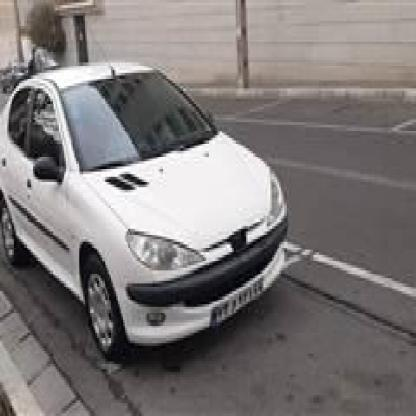Car: (0, 52, 288, 354)
